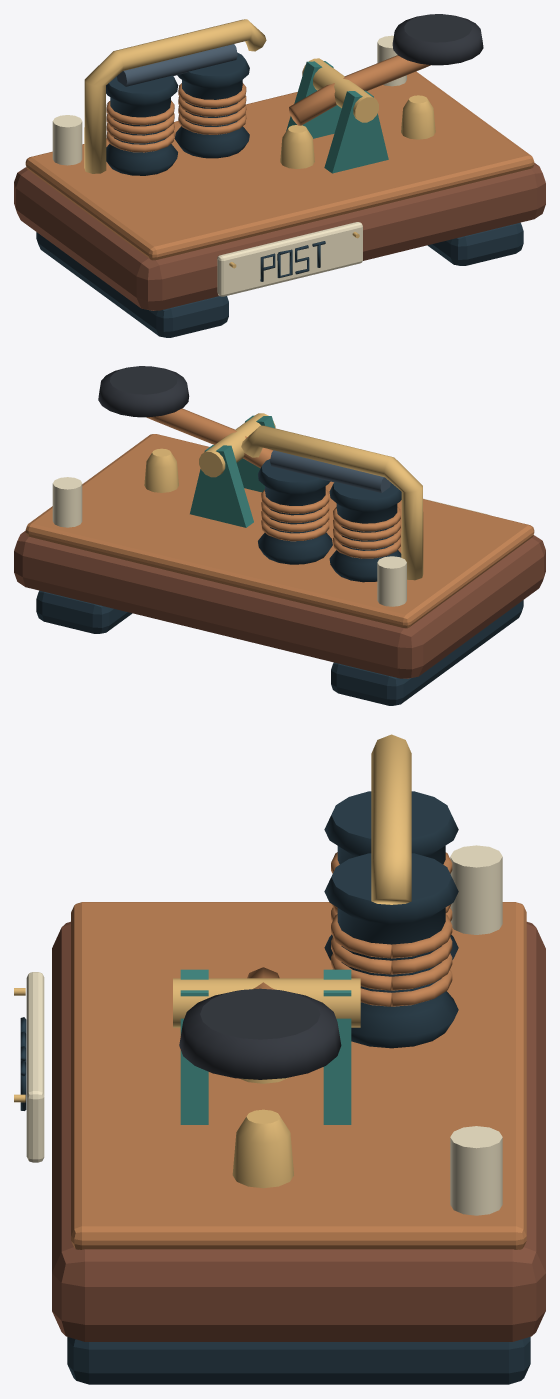
The picture shows the model from 3 angles, top to bottom: view 1: azimuth 30°, elevation 25°; view 2: azimuth 150°, elevation 25°; view 3: azimuth 270°, elevation 25°; orthographic projection. The views are drawn at different scales.
Visible parts, largest first — view 1: PR033 workshop surfaces; view 2: PR033 workshop surfaces; view 3: PR033 workshop surfaces.
Part boxes in pixels (bbox=[...]): PR033 workshop surfaces: bbox=[14, 14, 545, 337]; PR033 workshop surfaces: bbox=[14, 366, 545, 705]; PR033 workshop surfaces: bbox=[14, 734, 545, 1384].
Bounding box in the file's own units: 1.3 × 0.6571 × 0.8294.
